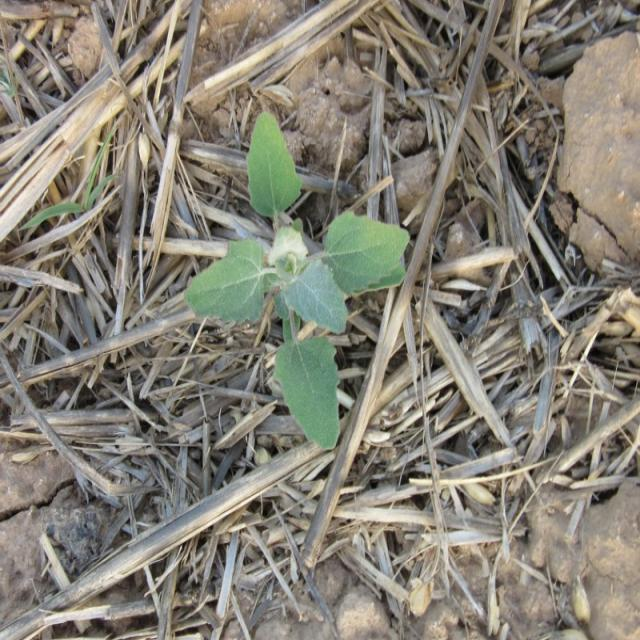ca: (187, 110, 412, 448)
